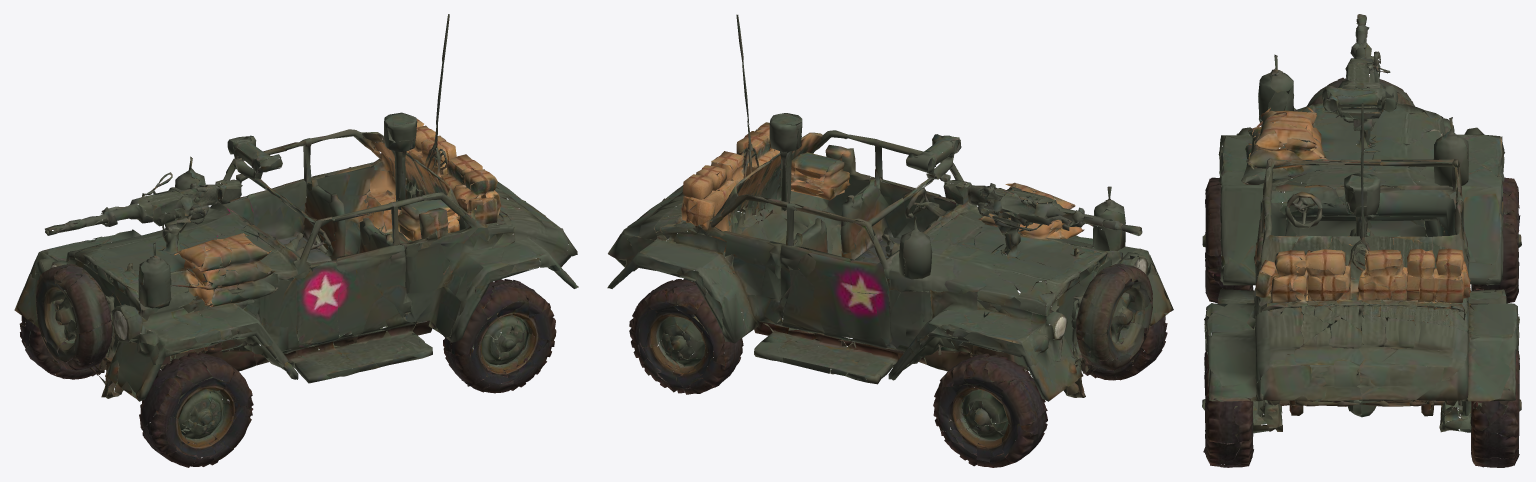
The model's file is jackrabbit.glb.
The picture shows the model from 3 angles, left to right: view 1: azimuth 30°, elevation 25°; view 2: azimuth 150°, elevation 25°; view 3: azimuth 270°, elevation 25°; orthographic projection. The views are drawn at different scales.
Parts seen in each view (by area): view 1: Mesh_0; view 2: Mesh_0; view 3: Mesh_0.
Boxes of the visible parts, left/top/right/bottom form: Mesh_0: left=14, top=14, right=578, bottom=467; Mesh_0: left=607, top=14, right=1173, bottom=467; Mesh_0: left=1202, top=14, right=1521, bottom=467.
Size of the model in its own units: 1.9 by 1.22 by 0.9722.
Materials: 1 (1 with a texture image).
